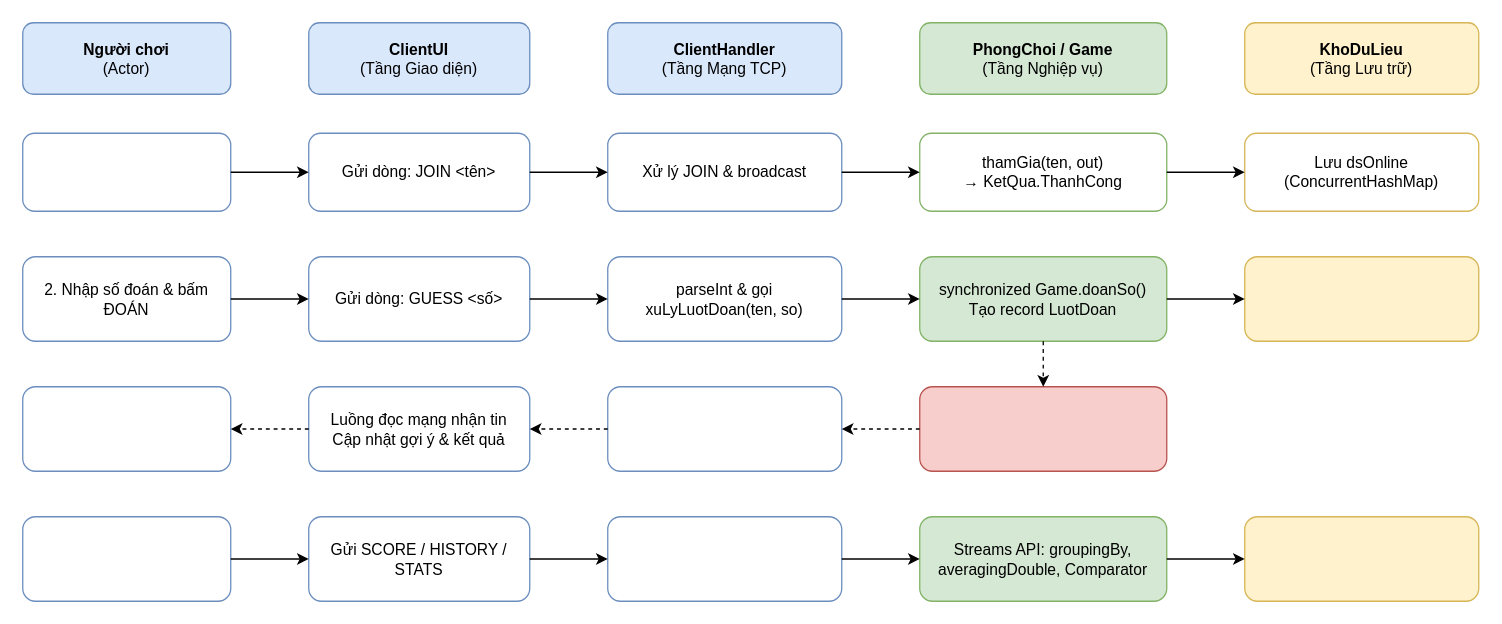
The diagram is 1502 pixels wide and 624 high, and some of its shapes have lost their labels. The centre of each missing label's shape, as x and y in pixels:
"1. Nhập tên & bấm Vào phòng" belongs at point 126,171.
"3. Xem gợi ý / thông báo thắng" belongs at point 126,428.
"4. Bấm xem Điểm / Thống kê" belongs at point 126,558.
"ghiLichSu(LuotDoan) Nếu trúng: congDiem(merge)" belongs at point 1361,298.
"Gọi ThongKeService & trả chuỗi định dạng" belongs at point 724,558.
"switch(KetQua): gửi gợi ý Nếu CORRECT: broadcast WIN" belongs at point 724,428.
"Trả về KetQua<LuotDoan> (ThanhCong / ThatBai)" belongs at point 1042,428.
"Đọc bangDiem & bản sao new ArrayList<>(lichSu)" belongs at point 1361,558.
